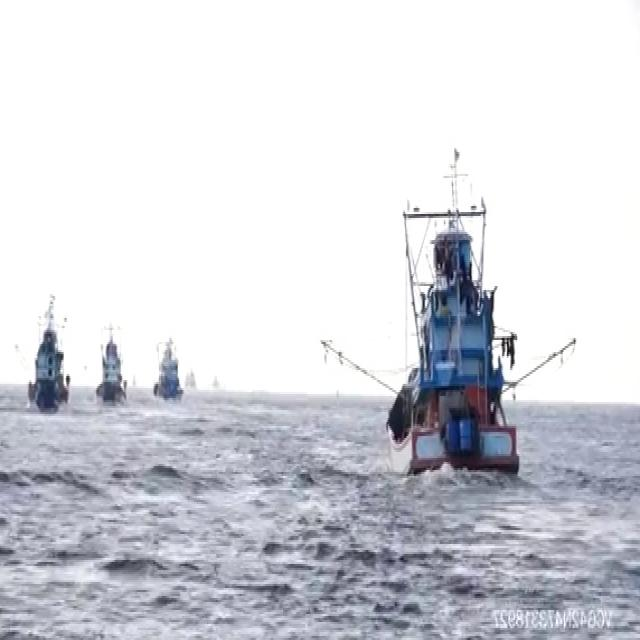fishing boat: (387, 172, 533, 472), (27, 295, 71, 408), (97, 322, 127, 405), (154, 332, 187, 402)
